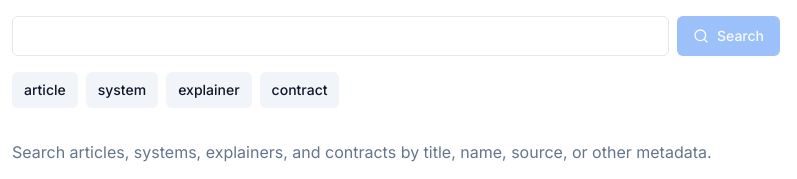
federated search page states › shows a no-results state after a submitted search
Type "nothing" into the search field at (340, 36), box 12,16 -> 669,56
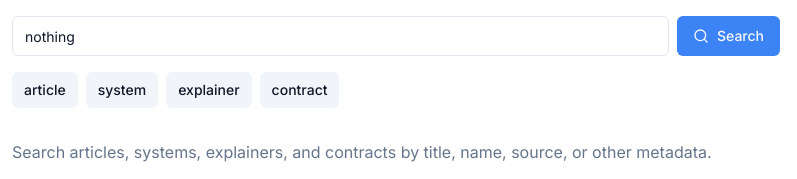
Click the button "Search" at (728, 36), box 677,16 -> 780,56
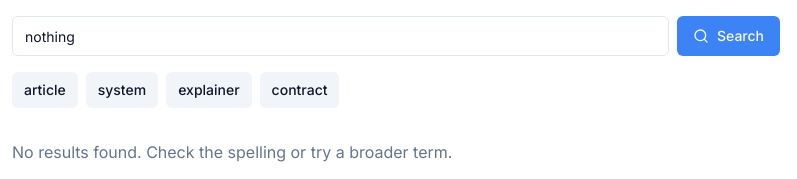
Expected: the text "No results found. Check the spelling or try a broader term." is shown, 12,142 -> 452,162
